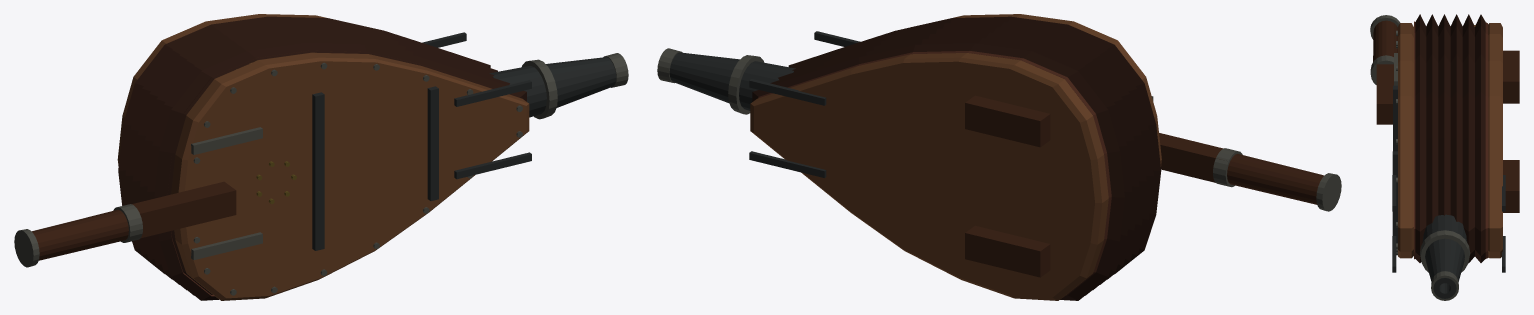
File: SM_ForgeBellows_1348_LOD0.obj
3 renders of one model, left to right at view 1: azimuth 30°, elevation 25°; view 2: azimuth 150°, elevation 25°; view 3: azimuth 270°, elevation 25°, orthographic. The views are drawn at different scales.
Parts seen in each view (by area): view 1: moving_upper_board_top, full_pleated_leather, moving_upper_board_bevel, upper_lever, turned_handle, open_nozzle_cone, cross_plate, pivot_iron_plates, nozzle_top_strap, front_plate, fixed_lower_board_bevel, open_nozzle_base (+5 smaller); view 2: fixed_lower_board_bottom, full_pleated_leather, fixed_lower_board_bevel, wooden_foot_cleats, turned_handle, open_nozzle_cone, upper_lever, leather_reinforcement, nozzle_lower_strap, moving_upper_board_bevel, open_nozzle_base, handle_endcap (+2 smaller); view 3: full_pleated_leather, moving_upper_board_bevel, fixed_lower_board_bevel, wooden_foot_cleats, leather_reinforcement, open_nozzle_cone, upper_lever, turned_handle, open_nozzle_base, nozzle_collar_lip, front_plate, nozzle_top_strap (+10 smaller).
Boxes of the visible parts, x1,y1,x2,y2 form: moving_upper_board_top: (185,61,526,298); full_pleated_leather: (118,16,526,300); moving_upper_board_bevel: (171,52,529,300); upper_lever: (132,181,236,237); turned_handle: (32,209,128,260); open_nozzle_cone: (531,57,616,113); cross_plate: (312,92,324,250); pivot_iron_plates: (191,127,262,259); nozzle_top_strap: (454,80,531,179); front_plate: (427,86,438,200); fixed_lower_board_bevel: (117,14,326,165); open_nozzle_base: (489,66,546,117); fixed_lower_board_bottom: (754,61,1094,297); full_pleated_leather: (752,16,1161,300); fixed_lower_board_bevel: (750,53,1108,300); wooden_foot_cleats: (965,95,1050,277); turned_handle: (1227,154,1324,204); open_nozzle_cone: (669,52,755,108); upper_lever: (1159,133,1223,183); leather_reinforcement: (758,51,1111,295); nozzle_lower_strap: (749,79,826,177); moving_upper_board_bevel: (953,14,1161,166); open_nozzle_base: (739,61,795,110); handle_endcap: (1316,173,1341,211); full_pleated_leather: (1415,14,1485,263); moving_upper_board_bevel: (1398,23,1413,258); fixed_lower_board_bevel: (1488,23,1502,258); wooden_foot_cleats: (1503,50,1519,212); leather_reinforcement: (1414,21,1488,259); open_nozzle_cone: (1425,238,1464,281); upper_lever: (1376,64,1393,124); turned_handle: (1373,20,1397,61); open_nozzle_base: (1422,214,1467,242); nozzle_collar_lip: (1420,234,1469,272); front_plate: (1392,151,1397,243); nozzle_top_strap: (1392,175,1396,272).
Bounding box in the file's own units: 2.01 × 0.7519 × 0.4915.
